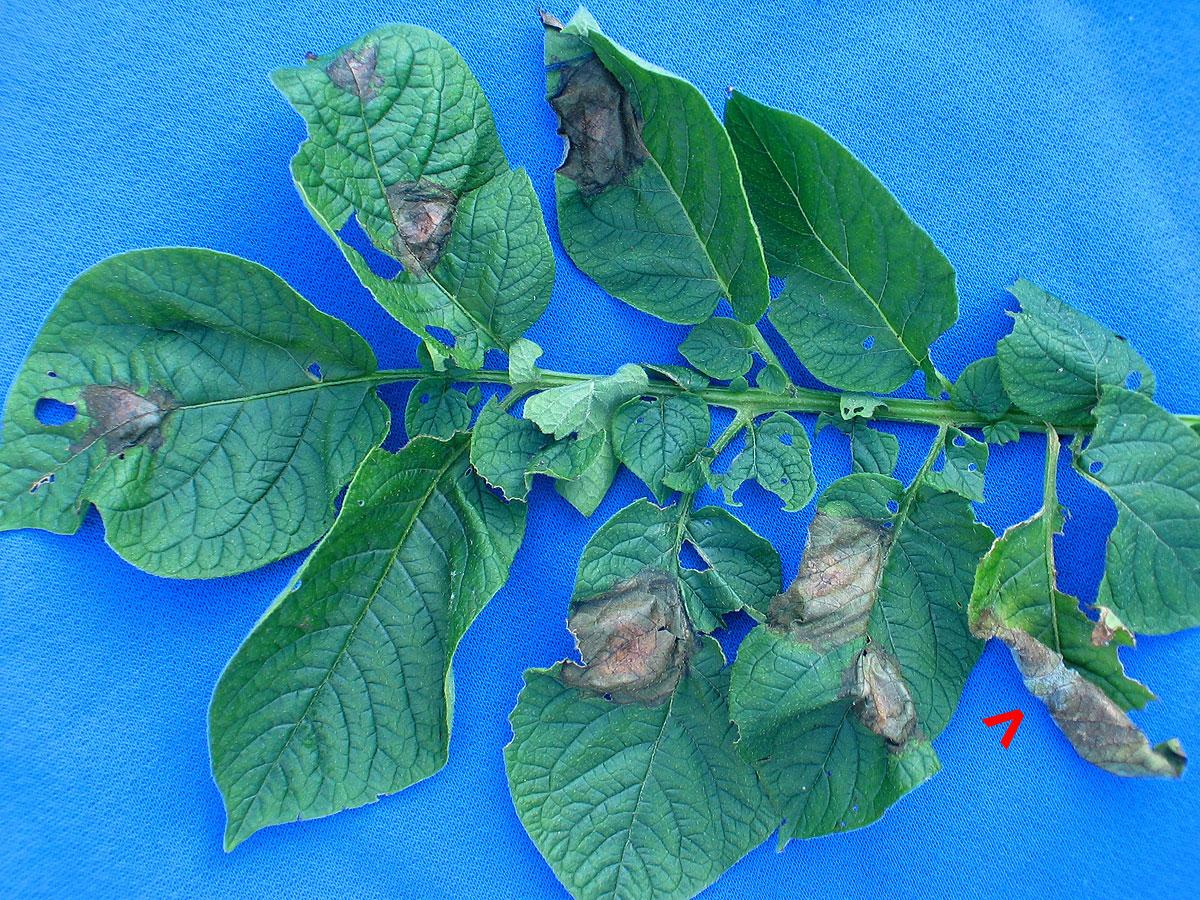Potato leaf late blight: (1, 239, 392, 576), (729, 471, 1018, 856), (552, 488, 821, 892), (271, 17, 568, 366), (520, 3, 783, 346), (969, 488, 1200, 796)
